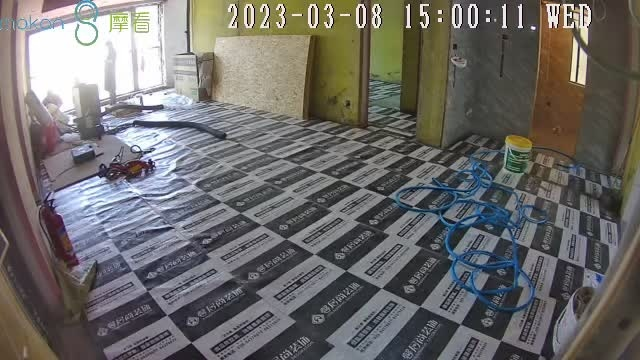people: (102, 39, 119, 103)
window: (27, 6, 167, 112)
